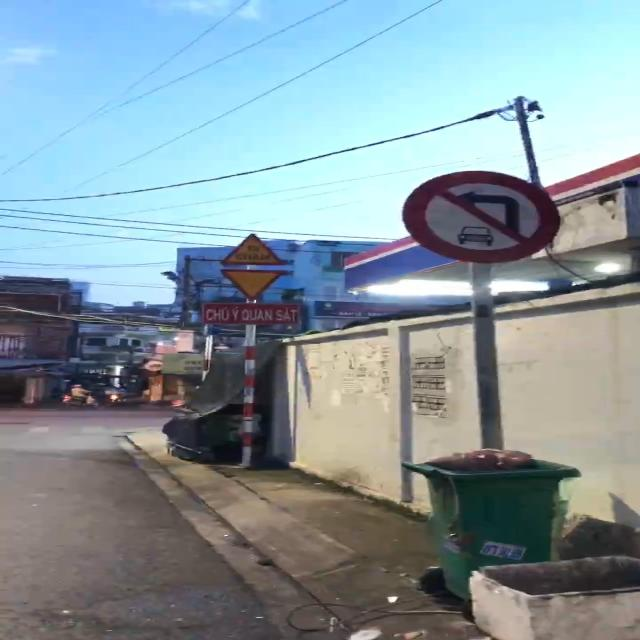Bien bao di cham: (215, 226, 291, 268)
Bien bao giao nhau voi duong uu tien: (220, 266, 305, 302)
